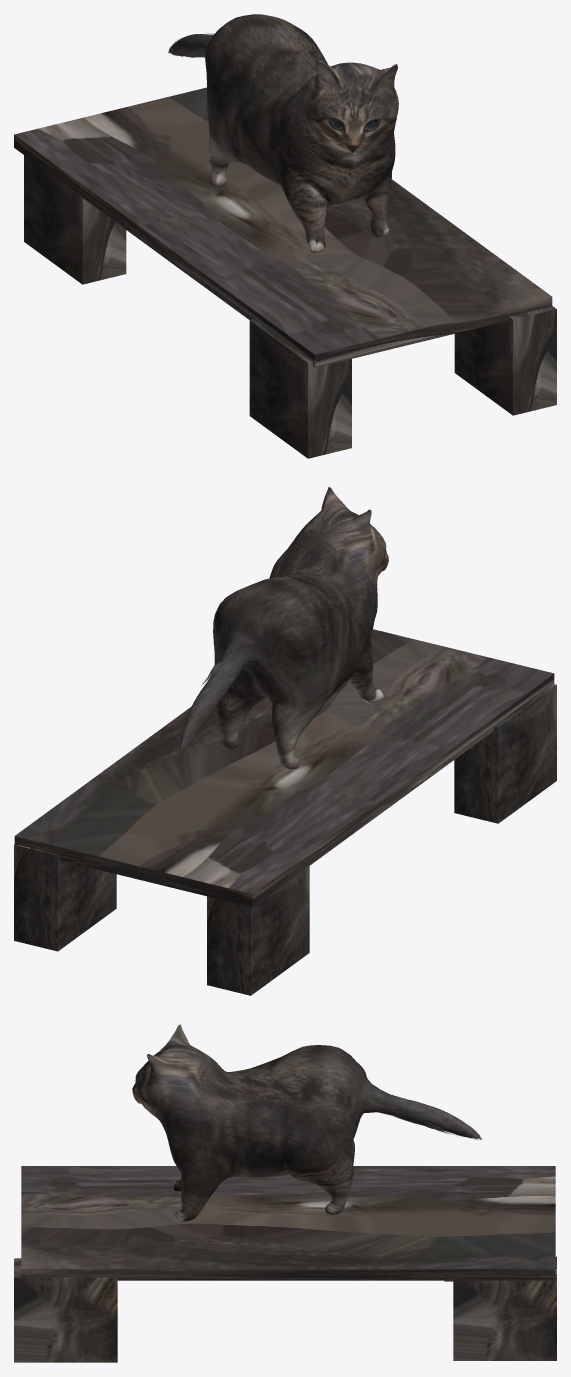
Rendered from cat.obj.
3 views of the same model, one above another, from view 1: azimuth 30°, elevation 25°; view 2: azimuth 150°, elevation 25°; view 3: azimuth 270°, elevation 25° (orthographic). The views are drawn at different scales.
Parts seen in each view (by area): view 1: Cube, Muchkin1.001, Cube.004, Cube.003, Cube.001; view 2: Cube, Muchkin1.001, Cube.004, Cube.001, Cube.002; view 3: Cube, Muchkin1.001, Cube.003, Cube.002.
Part boxes in pixels (x1=…): Cube: x1=14, y1=87, x2=552, y2=367; Muchkin1.001: x1=168, y1=14, x2=398, y2=252; Cube.004: x1=249, y1=319, x2=351, y2=458; Cube.003: x1=454, y1=306, x2=556, y2=415; Cube.001: x1=24, y1=155, x2=126, y2=284; Cube: x1=14, y1=629, x2=554, y2=907; Muchkin1.001: x1=179, y1=487, x2=388, y2=769; Cube.004: x1=454, y1=683, x2=556, y2=823; Cube.001: x1=207, y1=866, x2=309, y2=995; Cube.002: x1=14, y1=844, x2=116, y2=951; Cube: x1=21, y1=1166, x2=555, y2=1280; Muchkin1.001: x1=132, y1=1024, x2=482, y2=1221; Cube.003: x1=14, y1=1258, x2=117, y2=1362; Cube.002: x1=453, y1=1256, x2=556, y2=1360.
Bounding box in the file's own units: 0.5134 × 0.6298 × 1.12.
